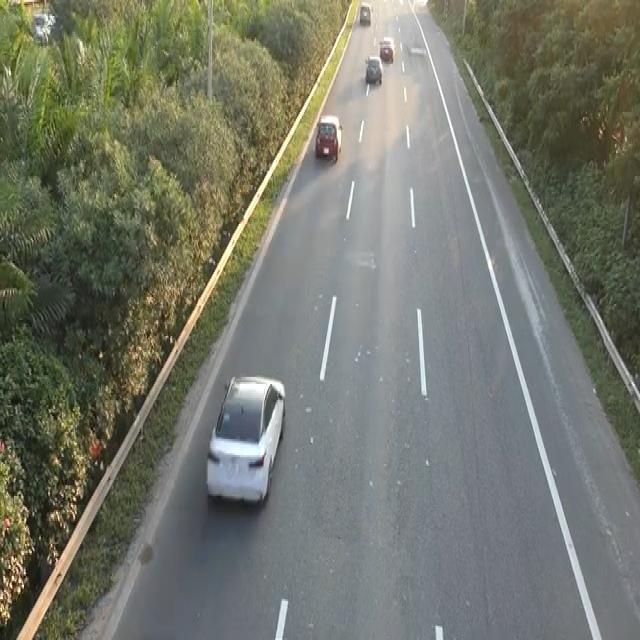bus: (203, 370, 289, 514), (314, 112, 342, 164)
